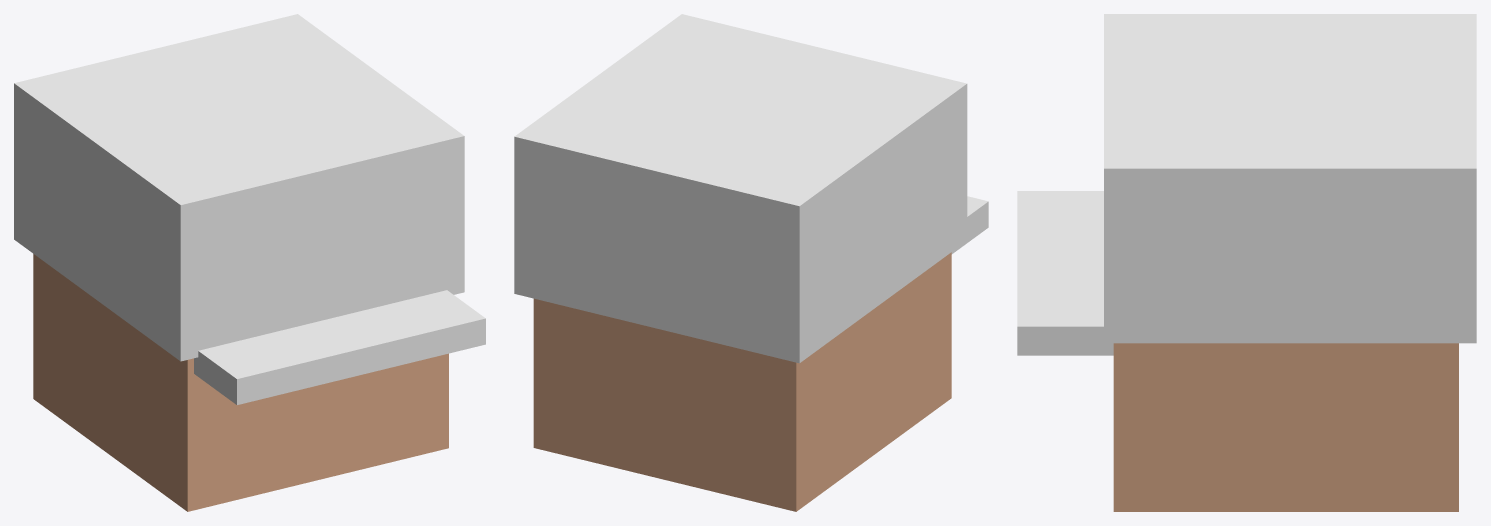
Rendered from Cabeza.obj.
3 renders of one model, left to right at view 1: azimuth 30°, elevation 25°; view 2: azimuth 150°, elevation 25°; view 3: azimuth 270°, elevation 25°, orthographic. The views are drawn at different scales.
Parts seen in each view (by area): view 1: Cabeza; view 2: Cabeza; view 3: Cabeza.
Boxes of the visible parts, bbox=[...] form: Cabeza: bbox=[14, 14, 485, 511]; Cabeza: bbox=[514, 14, 988, 511]; Cabeza: bbox=[1017, 14, 1476, 511].
Size of the model in its own units: 0.228 by 0.24 by 0.286.
Materials: 1 (1 with a texture image).
